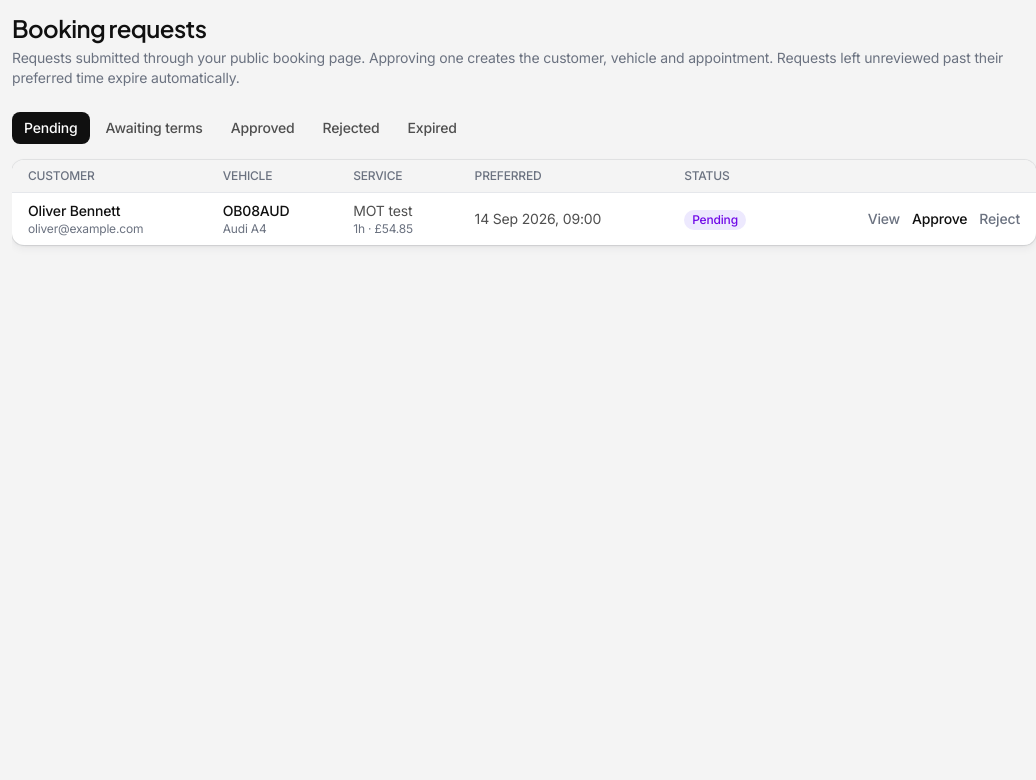
BookingRequestsList — reviewing a request › expands the full details on View, and collapses again
This screenshot has width=1036, height=780.
Expected: the text "Oliver Bennett" is shown, [28,202,120,219]
Click the button "View".
click(884, 219)  # box [868,209,900,229]
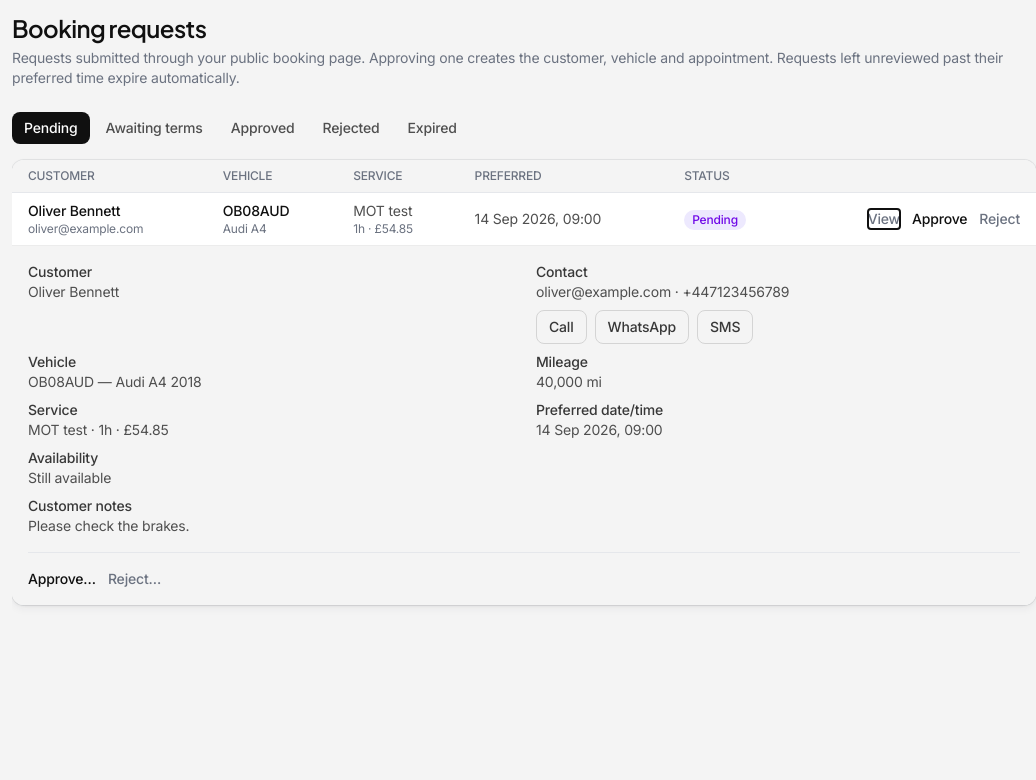
Expected: the text "Please check the brakes." is shown, [28,517,189,534]
Expected: the text "Still available" is shown, [28,469,111,486]
Click the button "View".
click(884, 219)  # box [868,209,900,229]
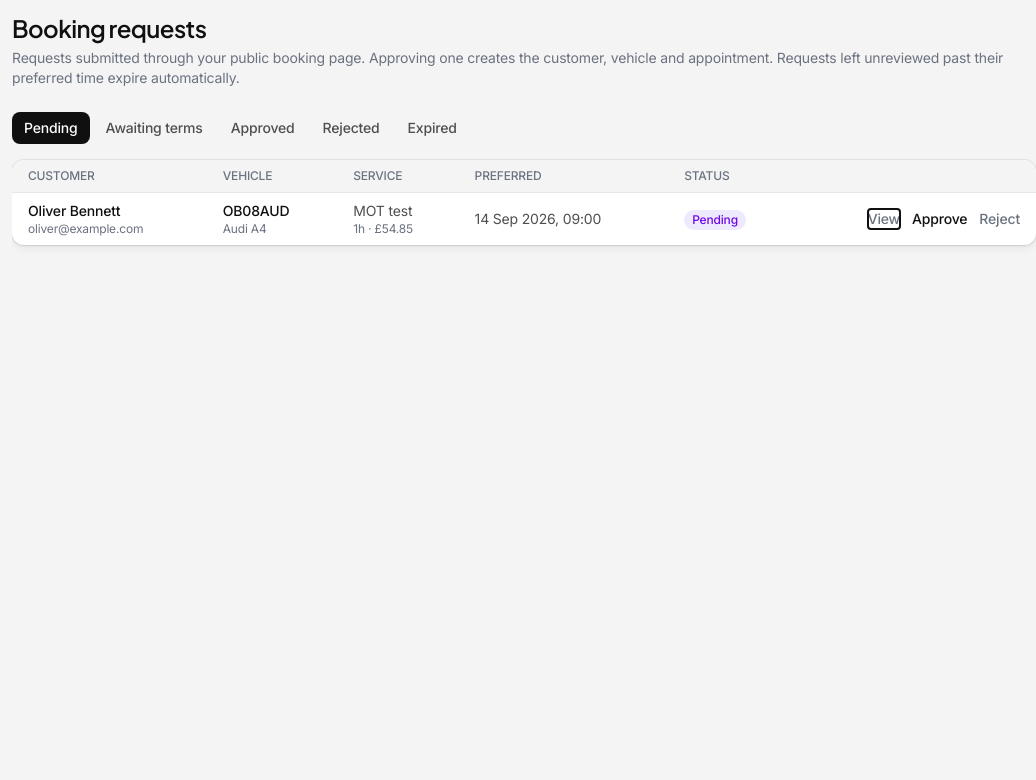
Expected: the text "Please check the brakes." is gone
